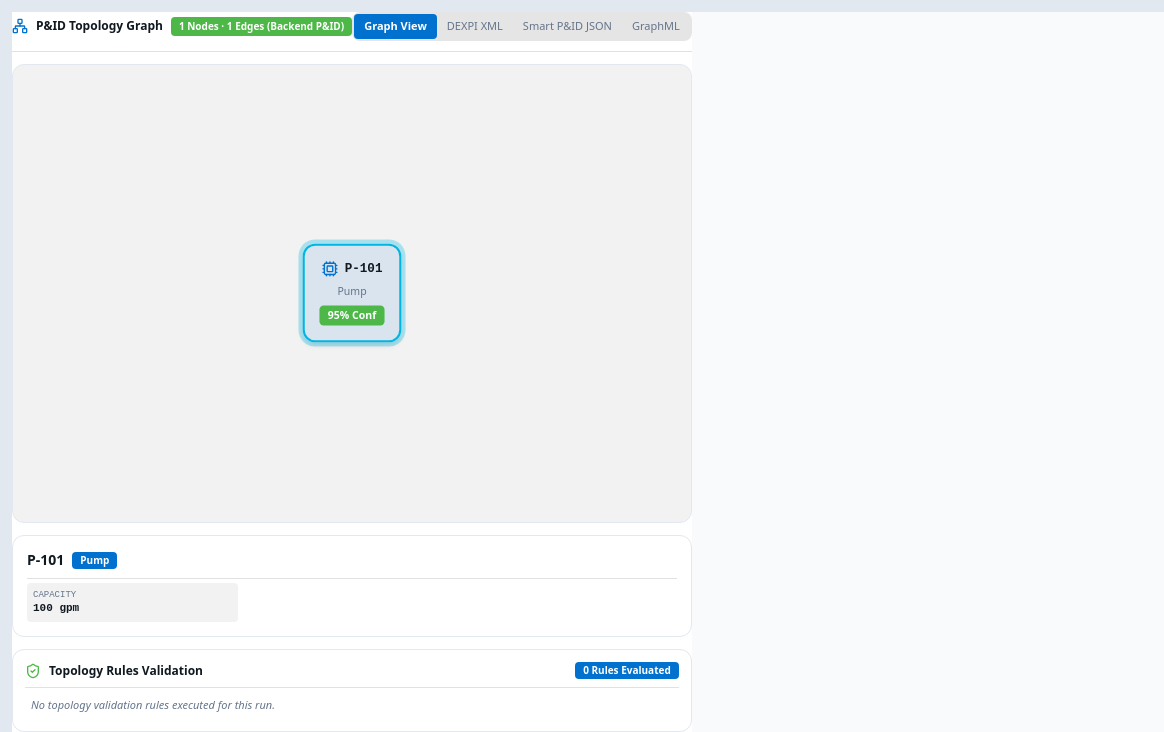
Test: GraphVisualizationView [BLK-249] › Smart P&ID JSON tab › does not fabricate mock JSON when smart_pid_json is missing [BLK-249]
The image size is (1164, 732).
// Switch to Smart P&ID tab
Click the button "Smart P&ID JSON".
click(567, 26)  # box [513,14,622,38]
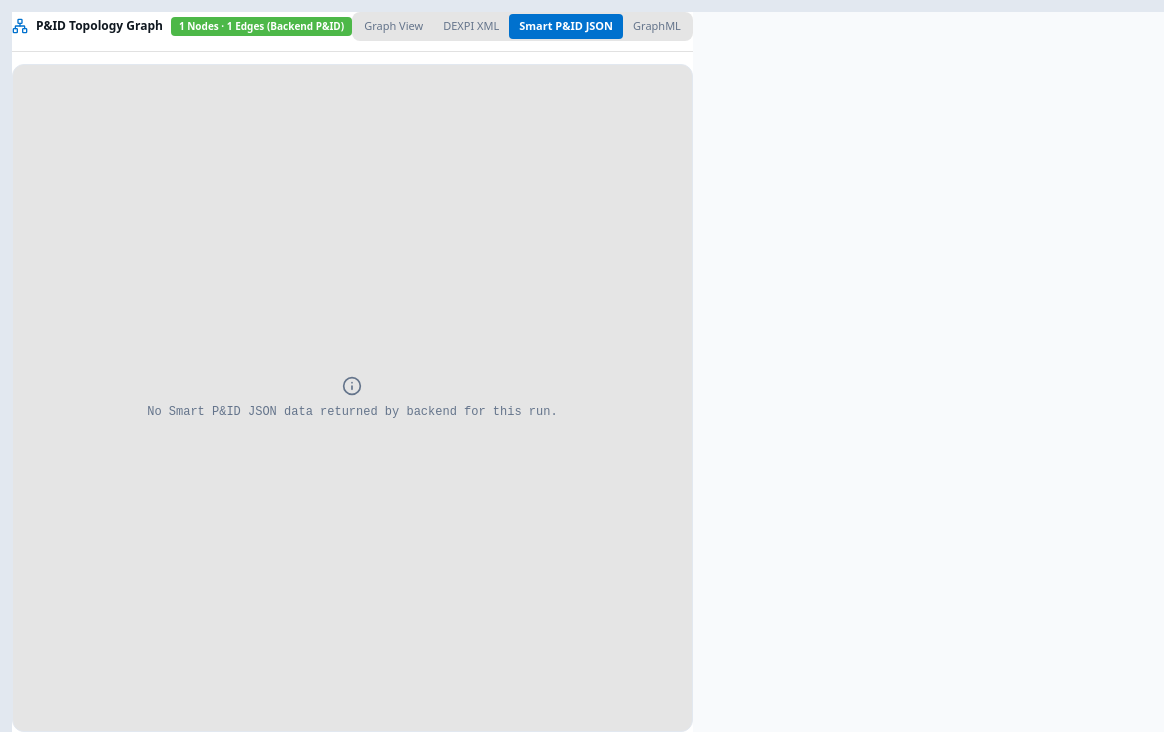
Now the text "No Smart P&ID JSON data returned by backend for this run." is shown, box [147,404,558,420]
